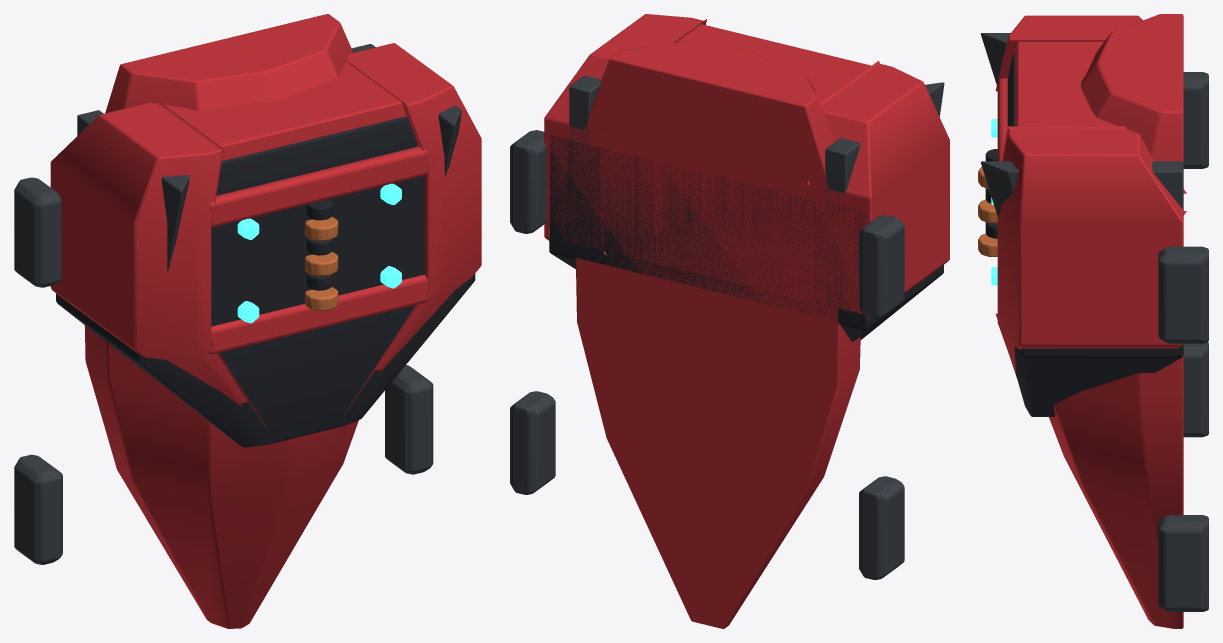
File: ThighFront_Set06_Voltaic.fbx
3 views of the same model, side by side, from view 1: azimuth 30°, elevation 25°; view 2: azimuth 150°, elevation 25°; view 3: azimuth 270°, elevation 25° (orthographic). The views are drawn at different scales.
Visible parts, largest first — view 1: ThighFront_Set06_Voltaic; view 2: ThighFront_Set06_Voltaic; view 3: ThighFront_Set06_Voltaic.
Boxes of the visible parts, left/top/right/bottom form: ThighFront_Set06_Voltaic: left=14, top=14, right=481, bottom=628; ThighFront_Set06_Voltaic: left=510, top=14, right=949, bottom=628; ThighFront_Set06_Voltaic: left=978, top=14, right=1208, bottom=628.
Bounding box in the file's own units: 0.53 × 0.73 × 0.2732.
